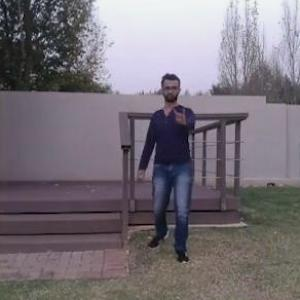takeoff-hand: (167, 100, 192, 125)
